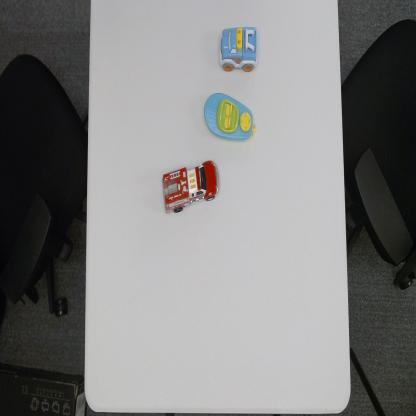Boat: (202, 90, 256, 144)
Car: (219, 24, 259, 74)
Firetruck: (160, 158, 220, 216)
